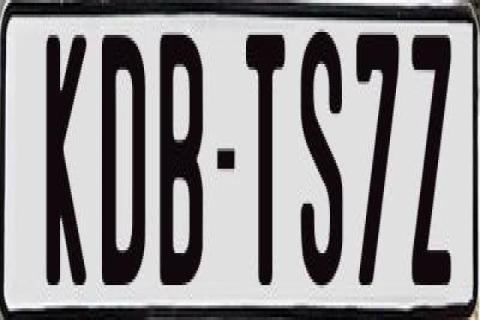0: (356, 35, 406, 299)
B: (156, 35, 204, 291)
D: (102, 29, 146, 282)
K: (46, 26, 88, 294)
S: (298, 23, 348, 285)
T: (242, 35, 286, 294)
Z: (408, 35, 448, 303)
